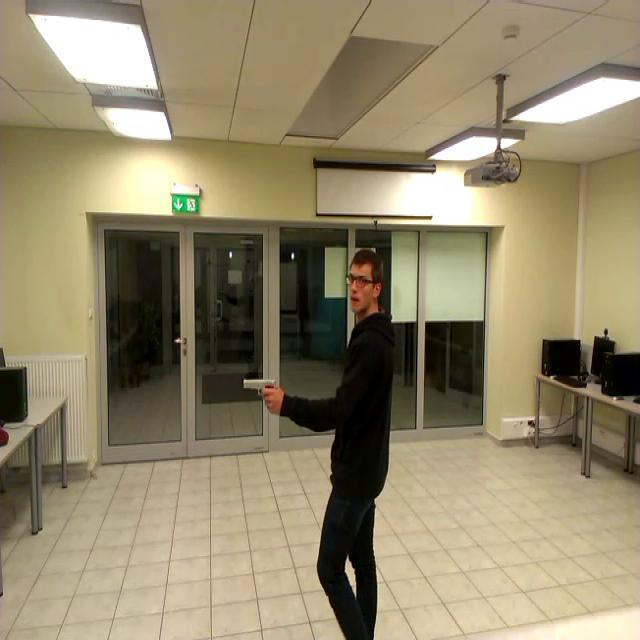Gun: (243, 378, 280, 404)
